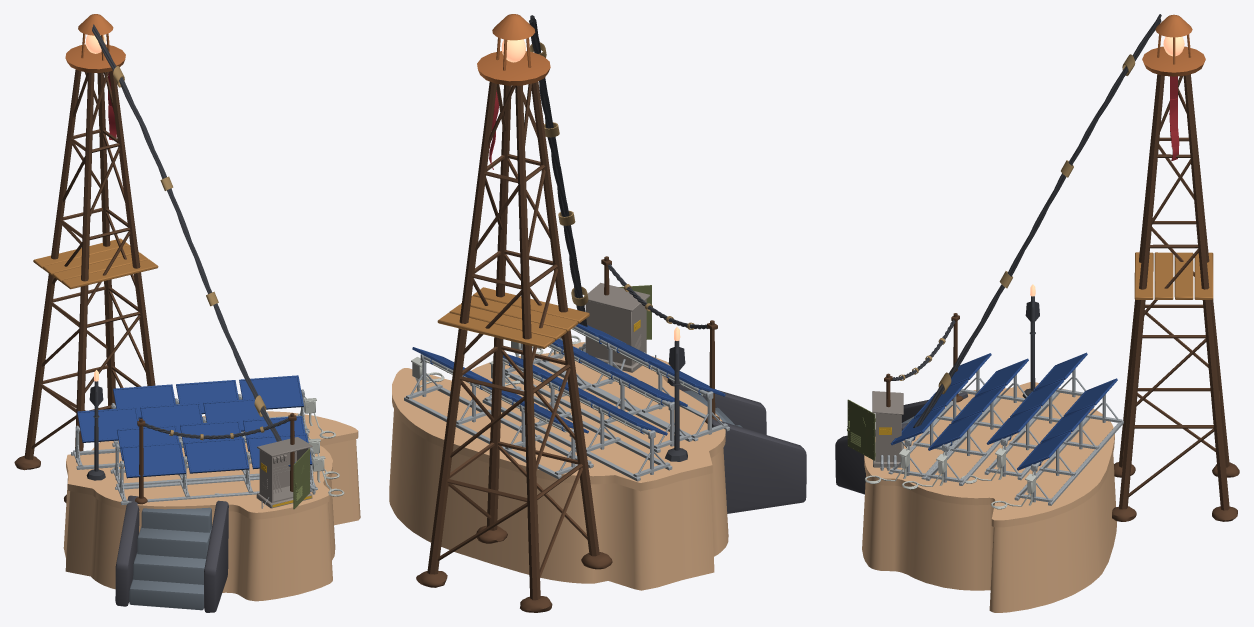
The model's file is nomad_solar_mast.fbx.
The picture shows the model from 3 angles, left to right: view 1: azimuth 30°, elevation 25°; view 2: azimuth 150°, elevation 25°; view 3: azimuth 270°, elevation 25°; orthographic projection. The views are drawn at different scales.
Visible parts, largest first — view 1: NomadSolarMast; view 2: NomadSolarMast; view 3: NomadSolarMast.
Part boxes in pixels (x1,y1,x2,y2): NomadSolarMast: [14, 14, 360, 612]; NomadSolarMast: [389, 14, 806, 612]; NomadSolarMast: [835, 14, 1239, 612].
Size of the model in its own units: 1391 by 2225 by 1611.
